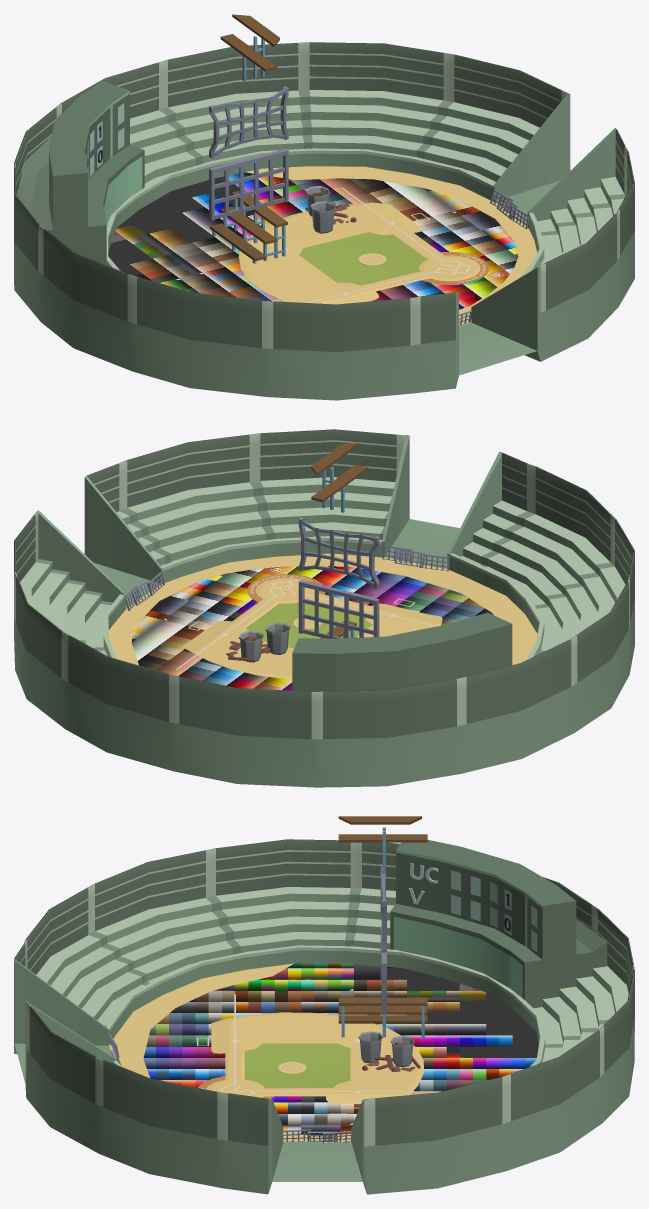
The model's file is baseball-field-1 (3).fbx.
3 views of the same model, one above another, from view 1: azimuth 30°, elevation 25°; view 2: azimuth 150°, elevation 25°; view 3: azimuth 270°, elevation 25° (orthographic).
Parts seen in each view (by area): view 1: stands, polySurface113, baseball_field, scoreboard, polySurface112, grid, bench, crashed_grid, polySurface88, trash_can1, pCylinder4, polySurface108; view 2: stands, polySurface113, scoreboard, baseball_field, polySurface112, grid, crashed_grid, polySurface88, trash_can1, trash_can, polySurface108; view 3: stands, polySurface113, scoreboard, baseball_field, polySurface112, bench, polySurface88, polySurface108, trash_can1, trash_can.
Part boxes in pixels (<box>): stands: <box>14,42,634,400</box>; polySurface113: <box>108,172,518,309</box>; baseball_field: <box>238,187,480,304</box>; scoreboard: <box>17,81,144,264</box>; polySurface112: <box>245,166,537,326</box>; grid: <box>209,148,288,220</box>; bench: <box>210,190,287,263</box>; crashed_grid: <box>209,86,288,158</box>; polySurface88: <box>220,34,277,71</box>; trash_can1: <box>310,201,335,233</box>; pCylinder4: <box>422,252,489,284</box>; polySurface108: <box>232,14,279,46</box>; stands: <box>14,429,634,787</box>; polySurface113: <box>131,566,493,690</box>; scoreboard: <box>292,612,512,691</box>; baseball_field: <box>176,577,442,678</box>; polySurface112: <box>109,553,537,665</box>; grid: <box>298,580,379,638</box>; crashed_grid: <box>298,517,379,589</box>; polySurface88: <box>311,464,367,502</box>; trash_can1: <box>265,622,290,654</box>; trash_can: <box>238,630,263,662</box>; polySurface108: <box>311,443,358,475</box>; stands: <box>14,839,634,1194</box>; polySurface113: <box>143,963,538,1134</box>; scoreboard: <box>390,840,607,1008</box>; baseball_field: <box>197,994,441,1108</box>; polySurface112: <box>109,963,351,1142</box>; bench: <box>338,997,427,1039</box>; polySurface88: <box>338,834,427,842</box>; polySurface108: <box>338,816,421,824</box>; trash_can1: <box>358,1031,382,1063</box>; trash_can: <box>390,1035,414,1066</box>.
Size of the model in its own units: 2895 by 1184 by 2916.
